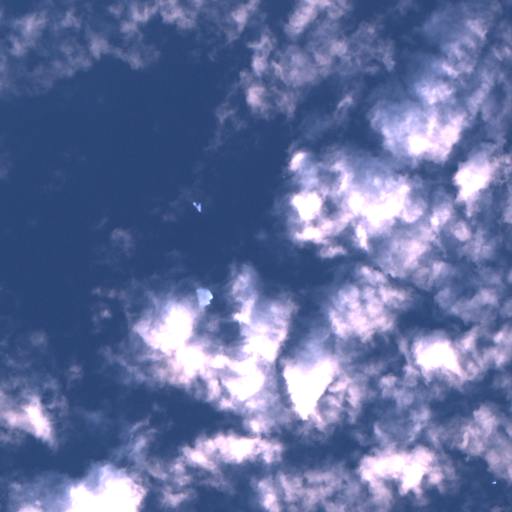Iceberg: (196, 287, 212, 308), (192, 202, 200, 211), (492, 481, 496, 483), (283, 176, 284, 178)
